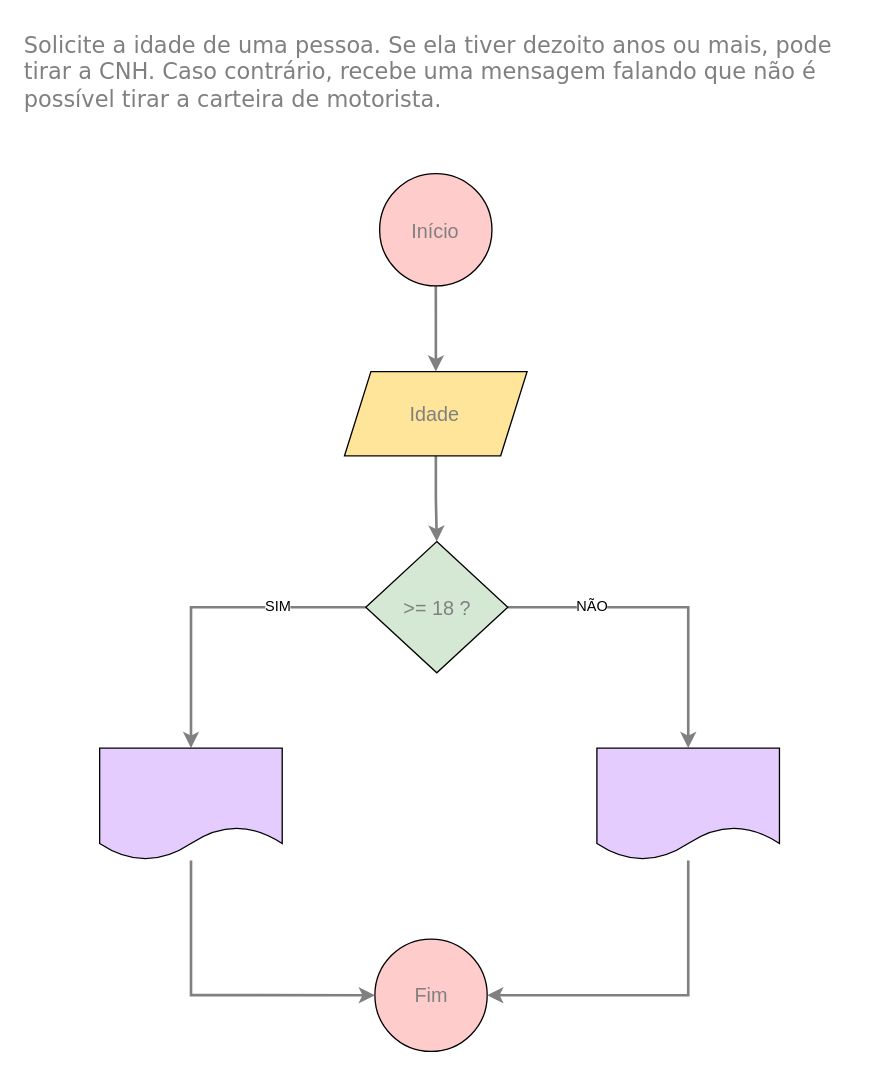
Some shapes in this 874 by 1074 pixel diagram are drawn without their labels. The box of each missing label's shape, as (x1, y1, x2, y2) in pixels:
Não pode tirar CNH: (596, 747, 779, 860)
Pode tirar CNH: (98, 747, 282, 860)
